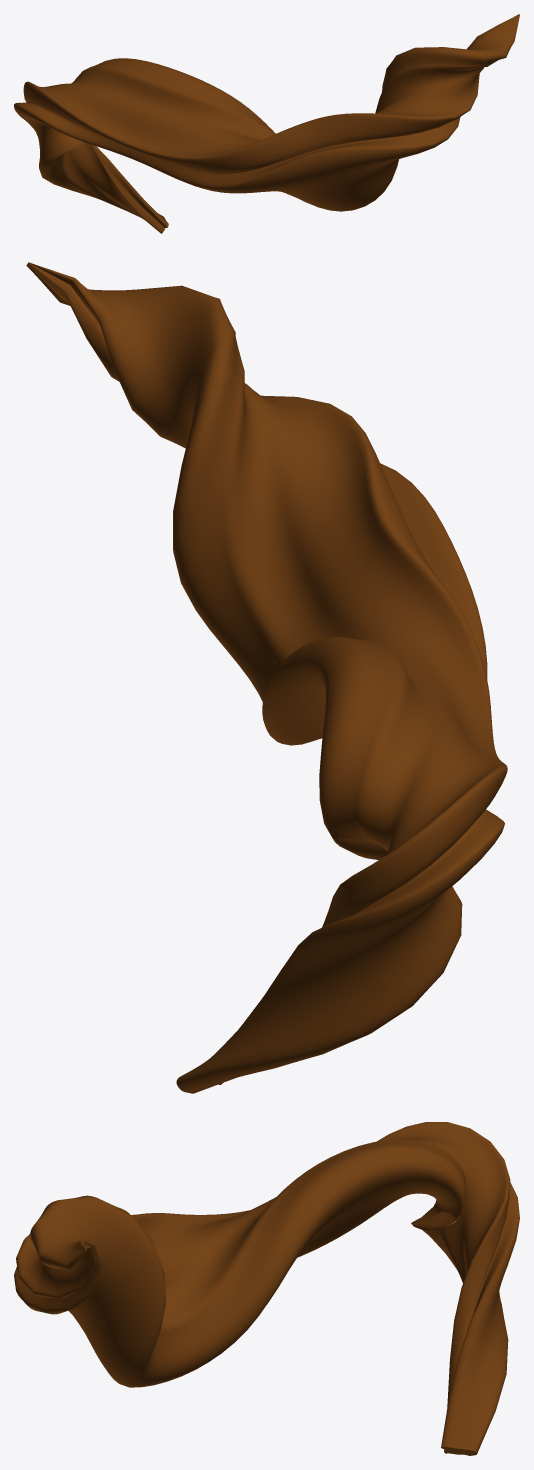
File: Branch_02.fbx
3 views of the same model, one above another, from view 1: azimuth 30°, elevation 25°; view 2: azimuth 150°, elevation 25°; view 3: azimuth 270°, elevation 25° (orthographic). The views are drawn at different scales.
Visible parts, largest first — view 1: NurbsPath.002; view 2: NurbsPath.002; view 3: NurbsPath.002.
Boxes of the visible parts, x1,y1,x2,y2 form: NurbsPath.002: (14,14,519,233); NurbsPath.002: (26,262,507,1093); NurbsPath.002: (14,1122,519,1455).
Size of the model in its own units: 225 by 153 by 197.
